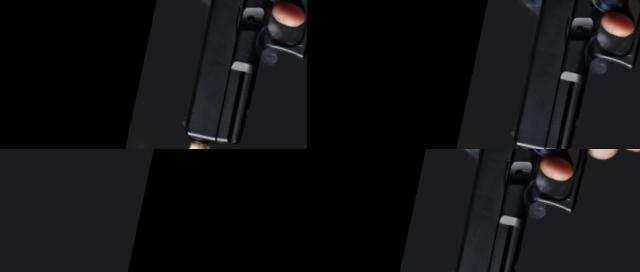handgun: (437, 149, 640, 272), (0, 149, 178, 272), (516, 0, 640, 149), (213, 0, 307, 105)
